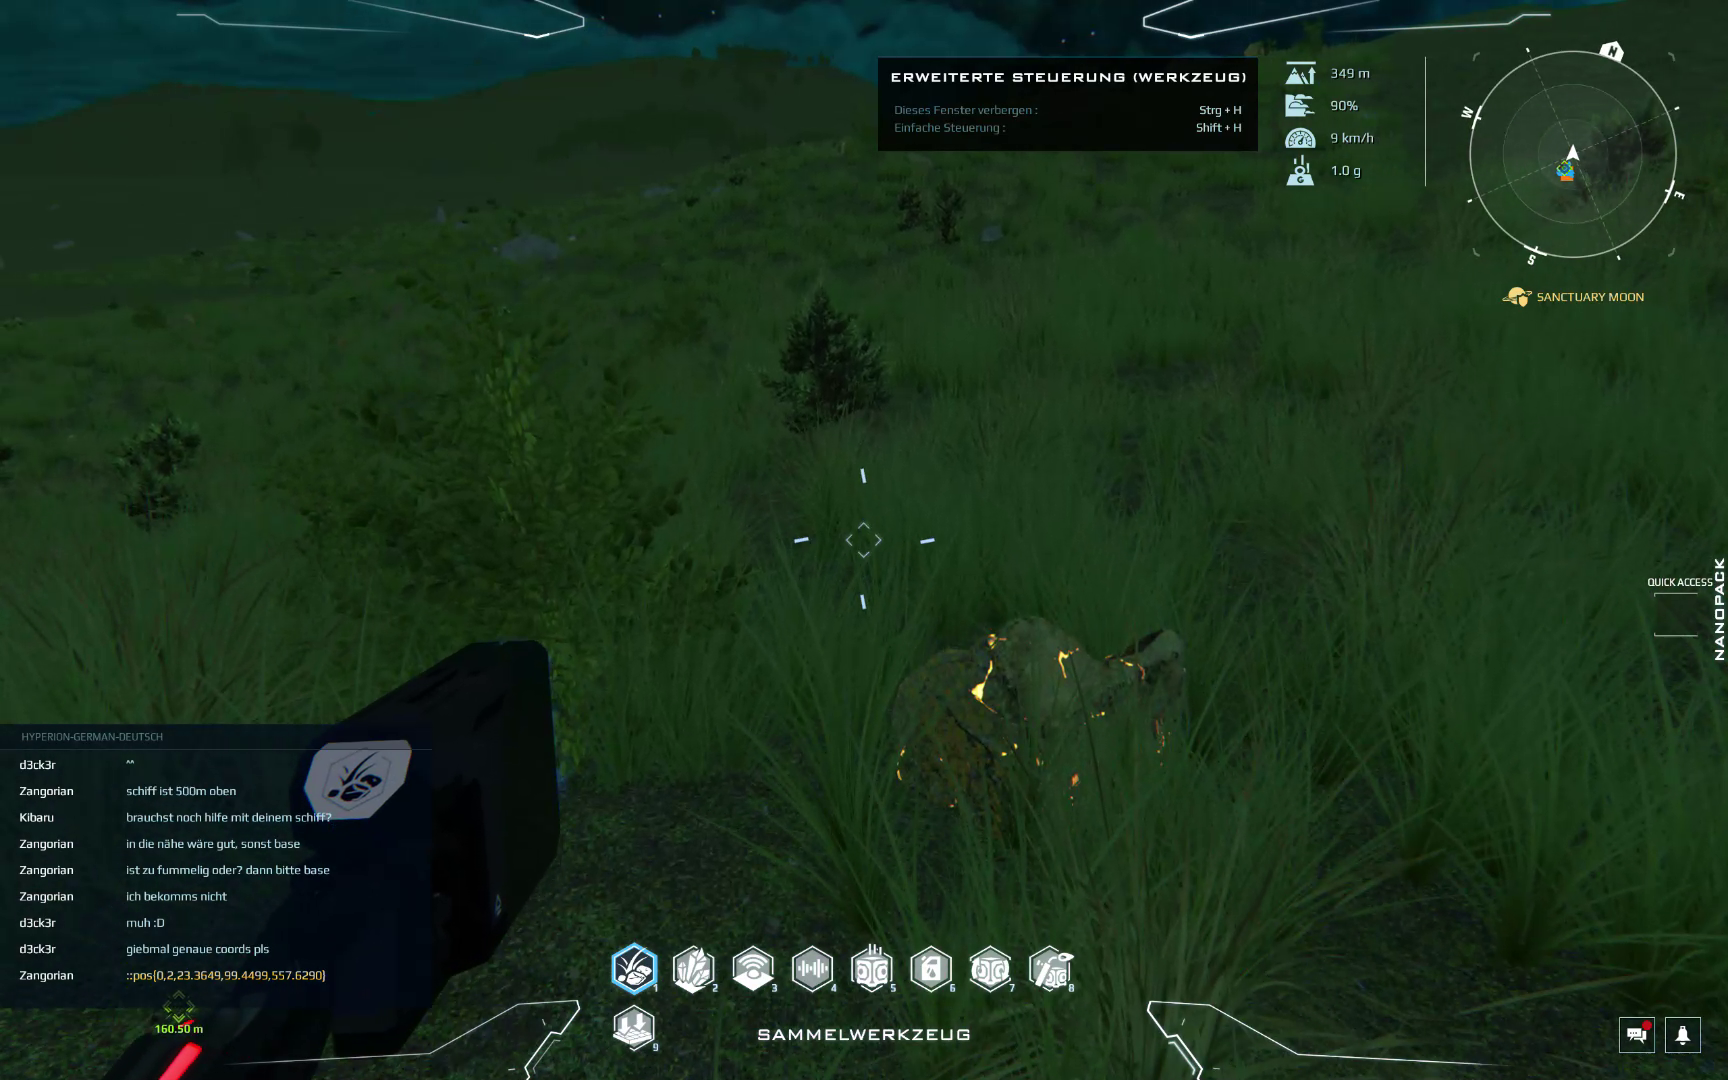Ore: (881, 615, 1194, 866)
